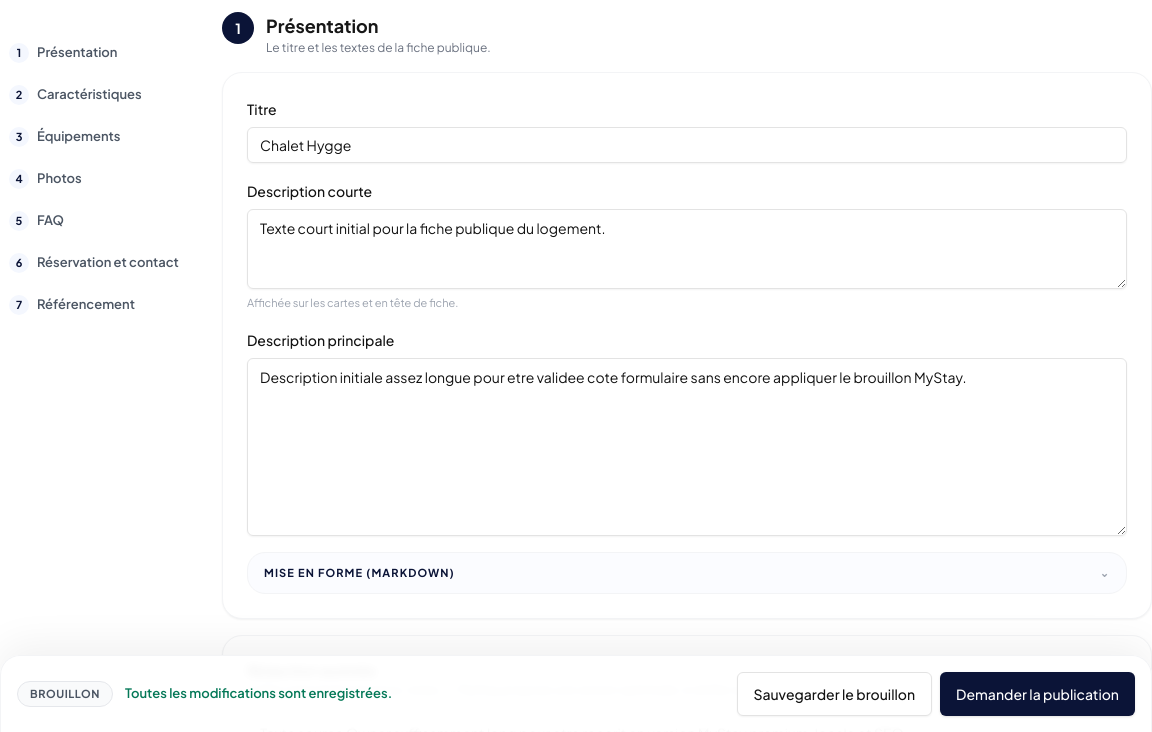
Test case: 028 lodging showcase owner form › shows field-level validation guidance when draft save is rejected
Click the button "Sauvegarder le brouillon".
click(834, 694)  # box [737, 672, 932, 716]
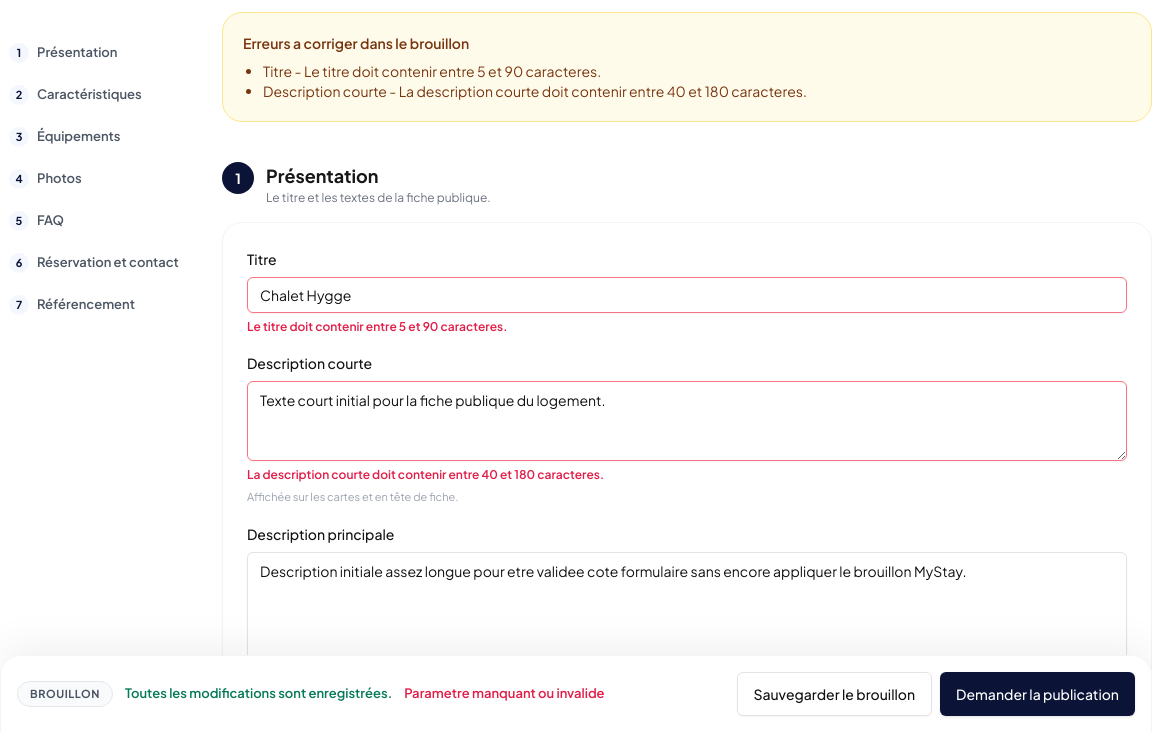
Check: the list item "Titre - Le titre doit contenir entre 5 et 90 caracteres." is shown, box [263, 62, 601, 80]
Check: the list item "Description courte - La description courte doit contenir entre 40 et 180 caracteres." is shown, box [263, 82, 807, 100]
